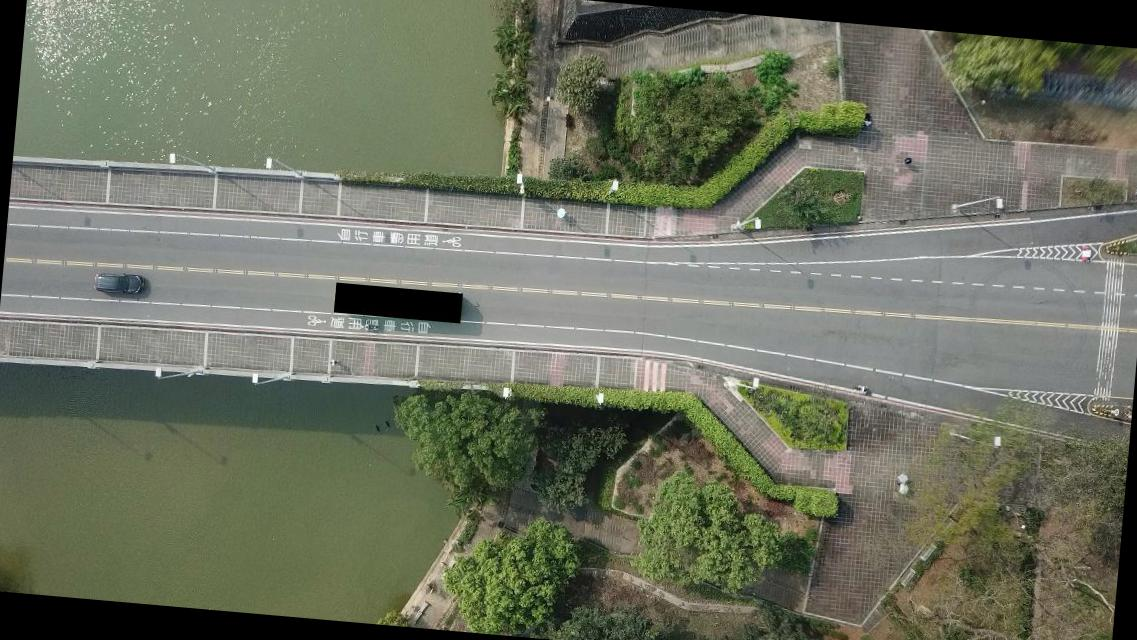vehicle: (92, 272, 146, 296)
